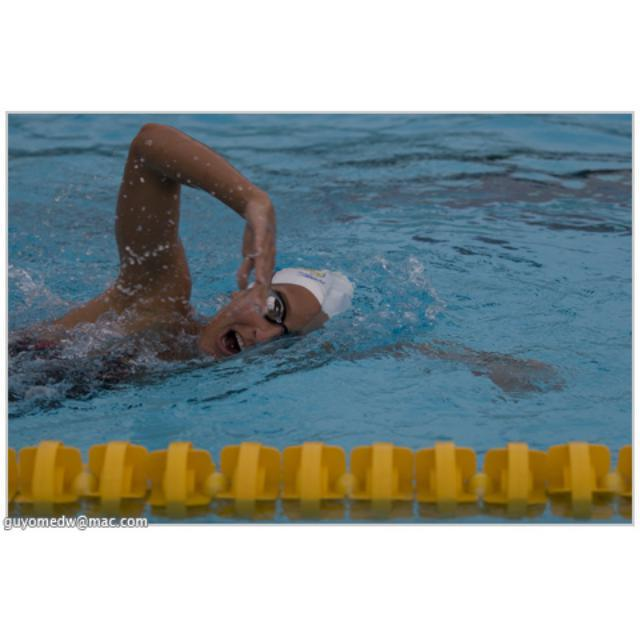human: (3, 118, 349, 412)
